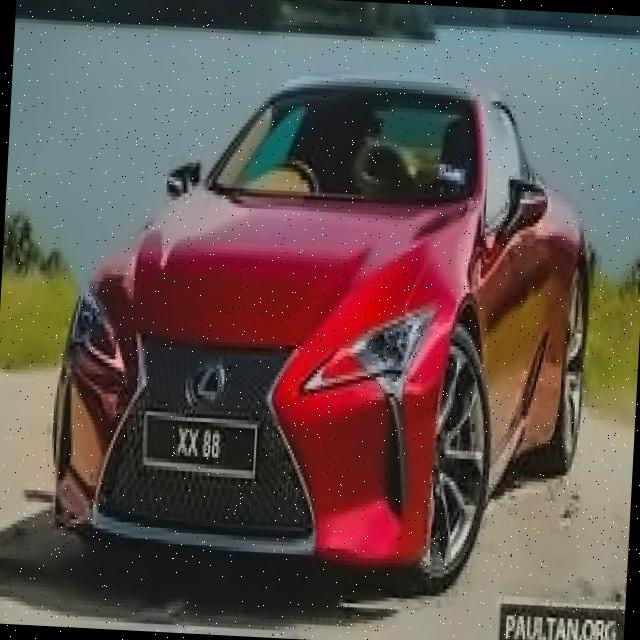License_Plate: (138, 412, 263, 490)
car: (56, 41, 610, 640)
